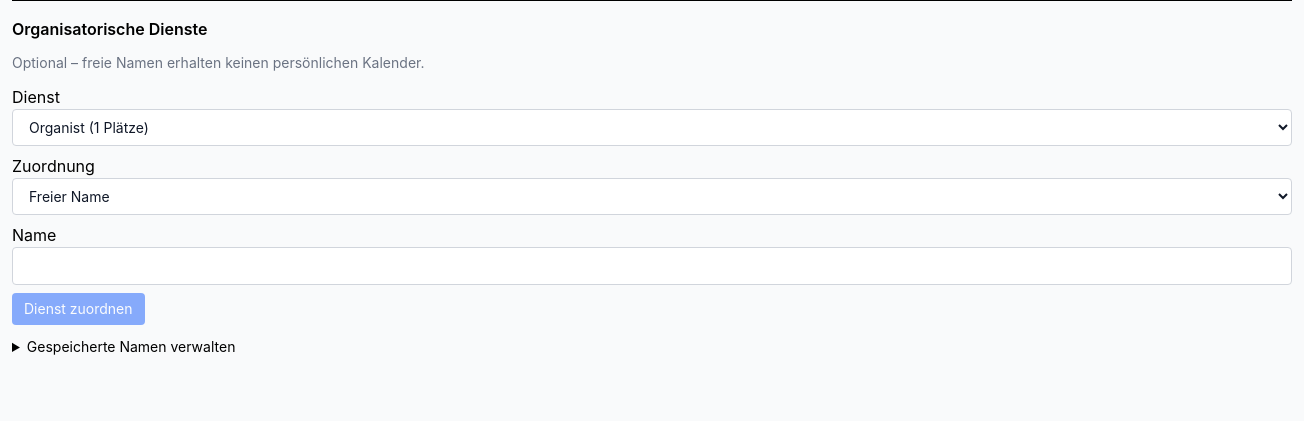
Test: offers no override for a blocking overlap
Select "Verknüpftes Konto" in the dropdown with test id "identity-kind" at coordinates (652, 196), box [12,178,1292,215]
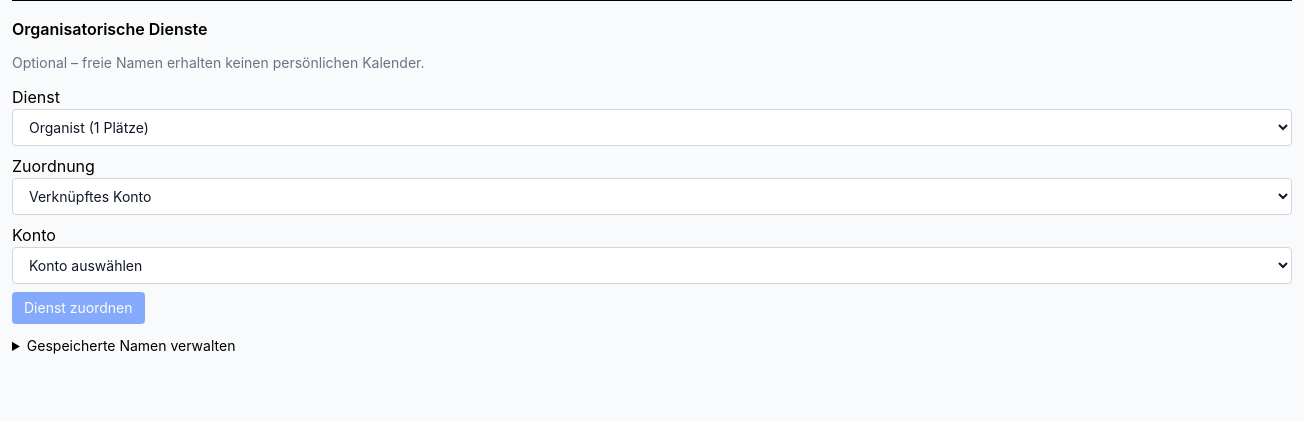
Select "Anna" in the dropdown with test id "duty-account" at coordinates (652, 266), box [12,247,1292,284]
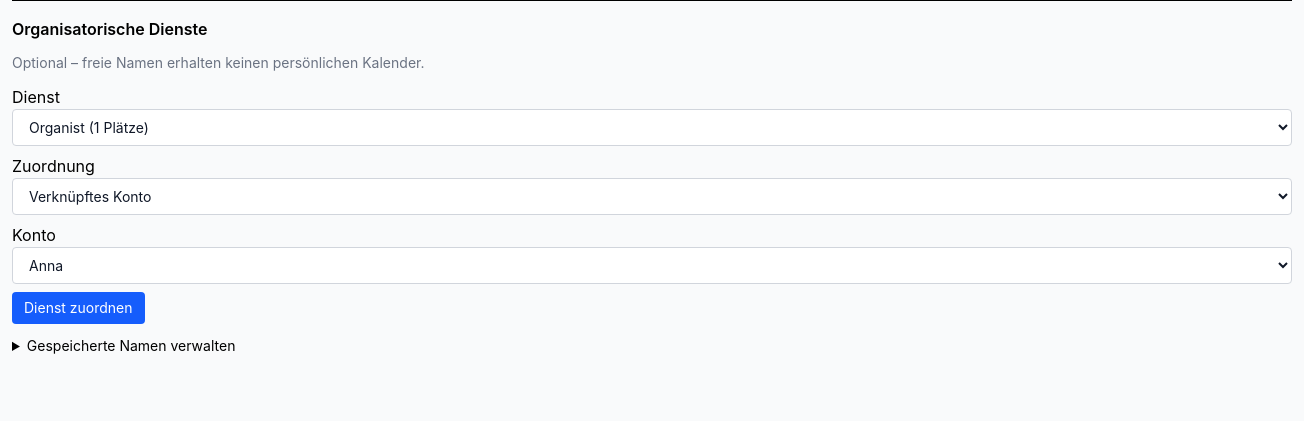
Submit the form, box [12,85,1292,324]
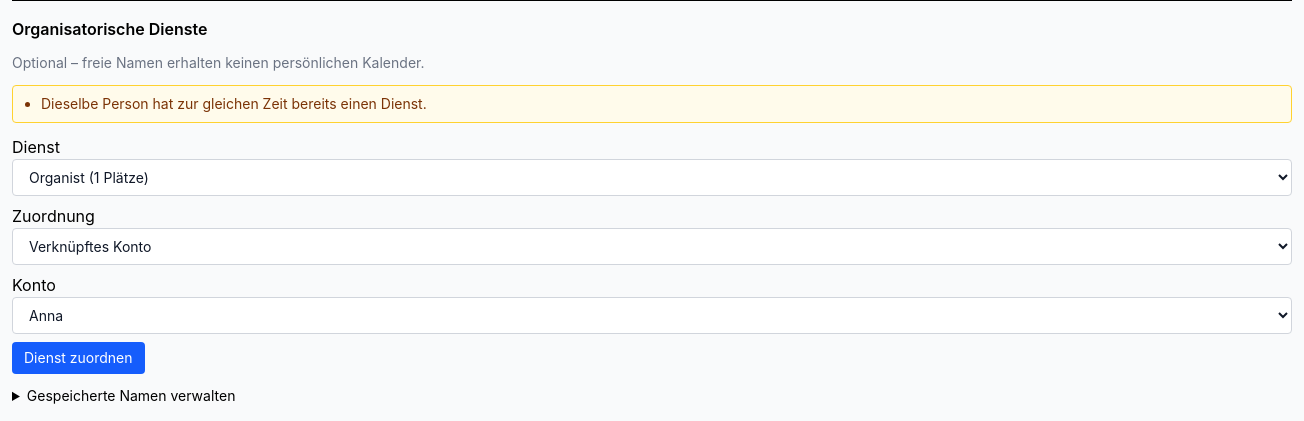
Expected: the message with test id "duty-conflict" shows "bereits einen Dienst", [41,95,427,112]
